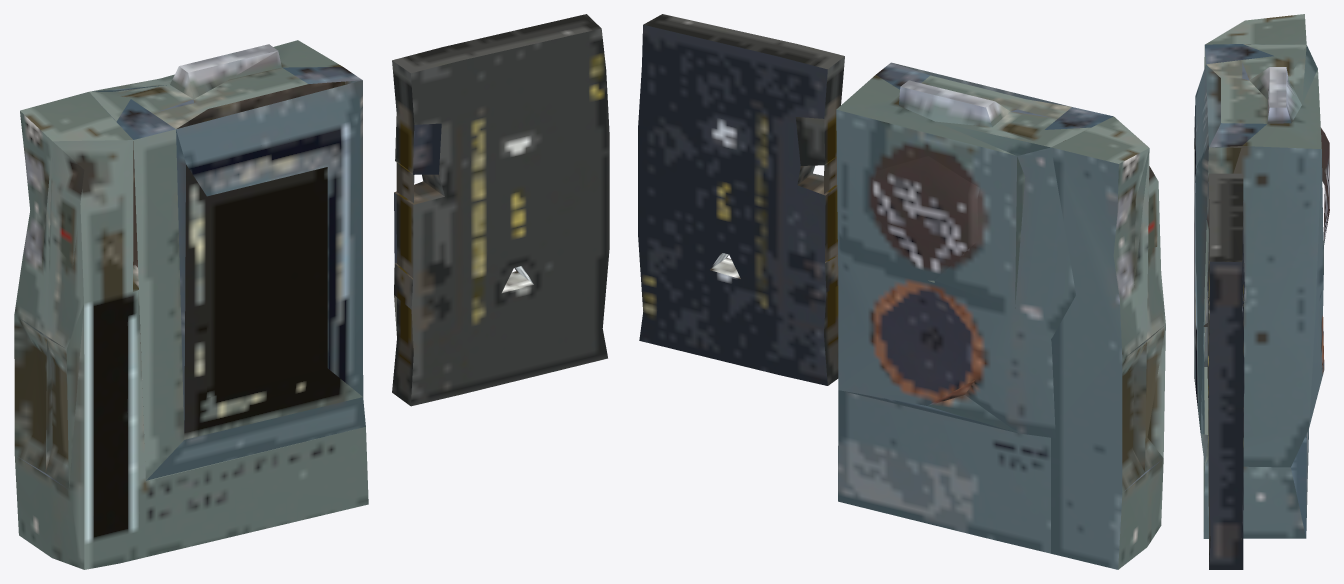
The model's file is portable_cassette_player.glb.
The picture shows the model from 3 angles, left to right: view 1: azimuth 30°, elevation 25°; view 2: azimuth 150°, elevation 25°; view 3: azimuth 270°, elevation 25°; orthographic projection. The views are drawn at different scales.
Visible parts, largest first — view 1: mesh; view 2: mesh; view 3: mesh.
Part boxes in pixels (x1=…): mesh: x1=14, y1=14, x2=609, y2=569; mesh: x1=638, y1=14, x2=1165, y2=569; mesh: x1=1194, y1=14, x2=1329, y2=569.
Bounding box in the file's own units: 0.1676 × 0.1303 × 0.0394.
1 material, 1 textured.
